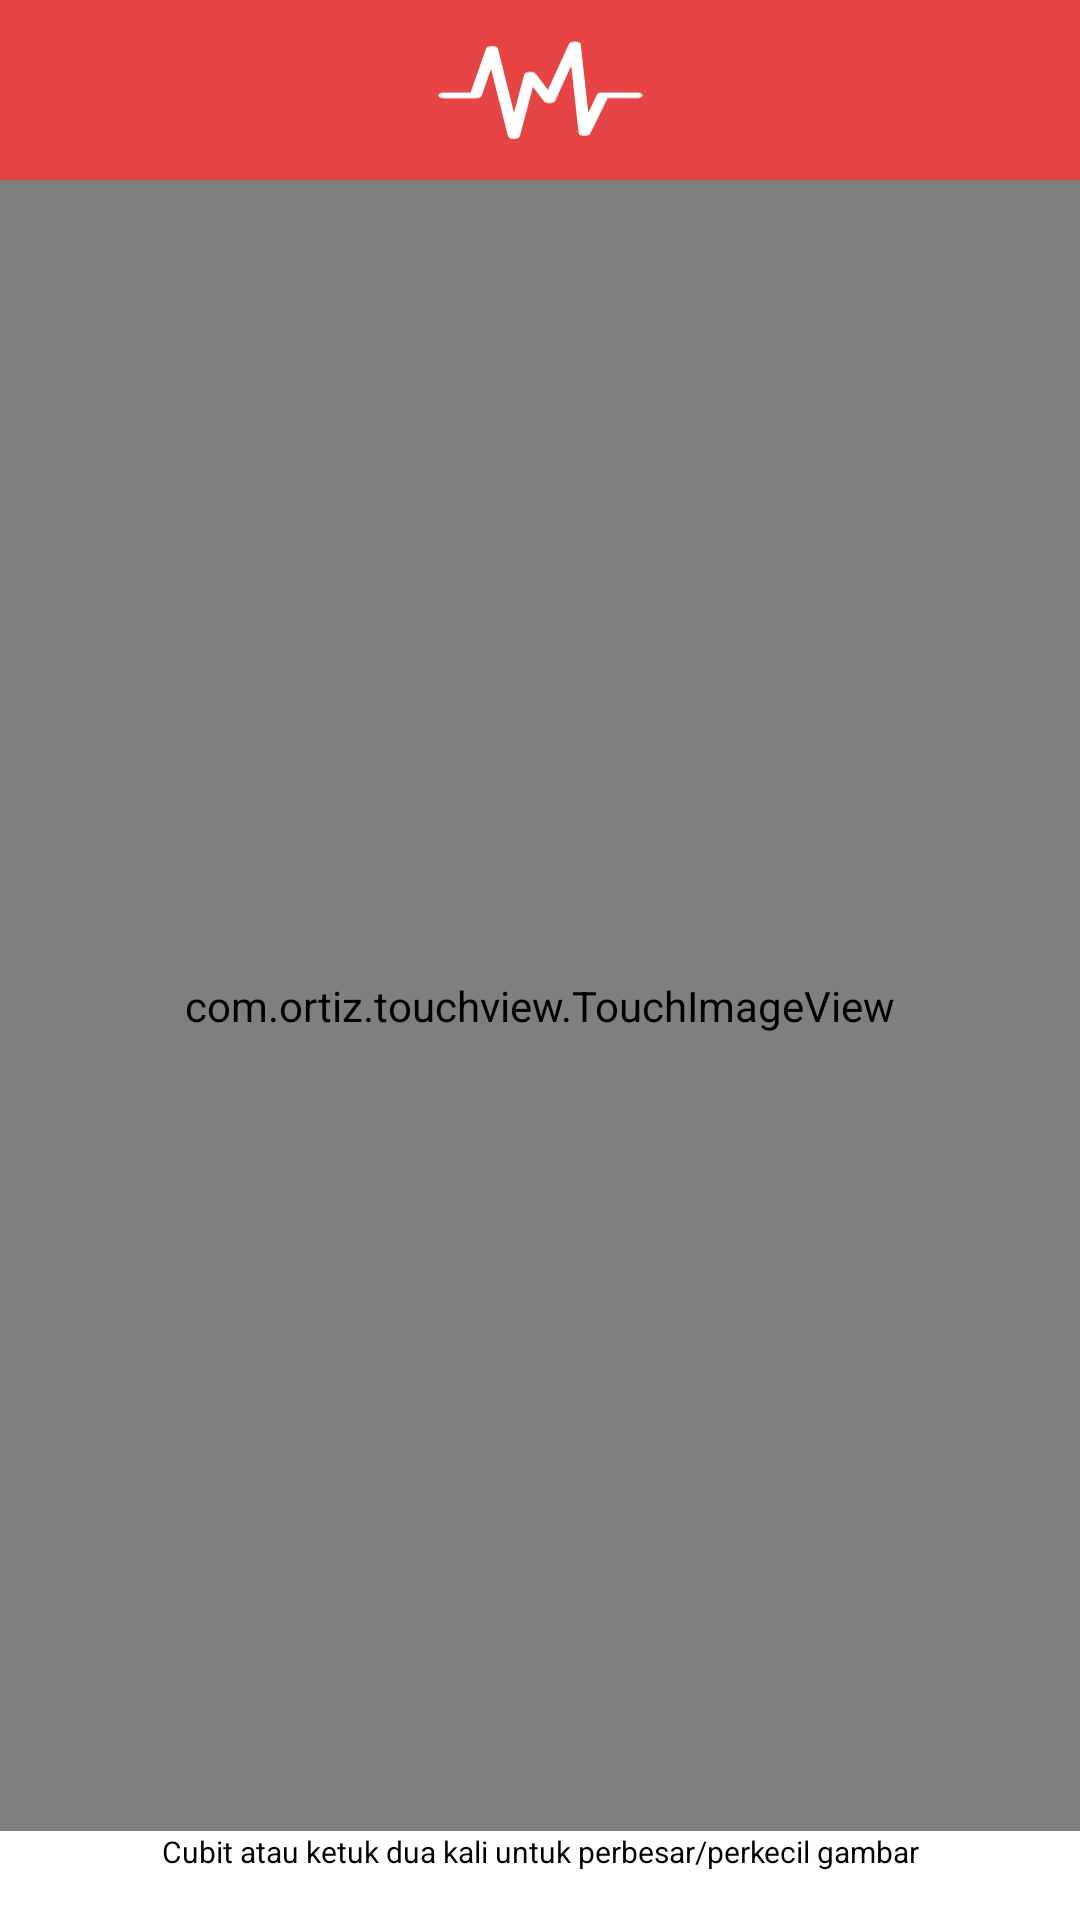

Screen size 1080px×1920px. Icon name, then its center in pixels as [x,y]:
gempa: [540,90]
